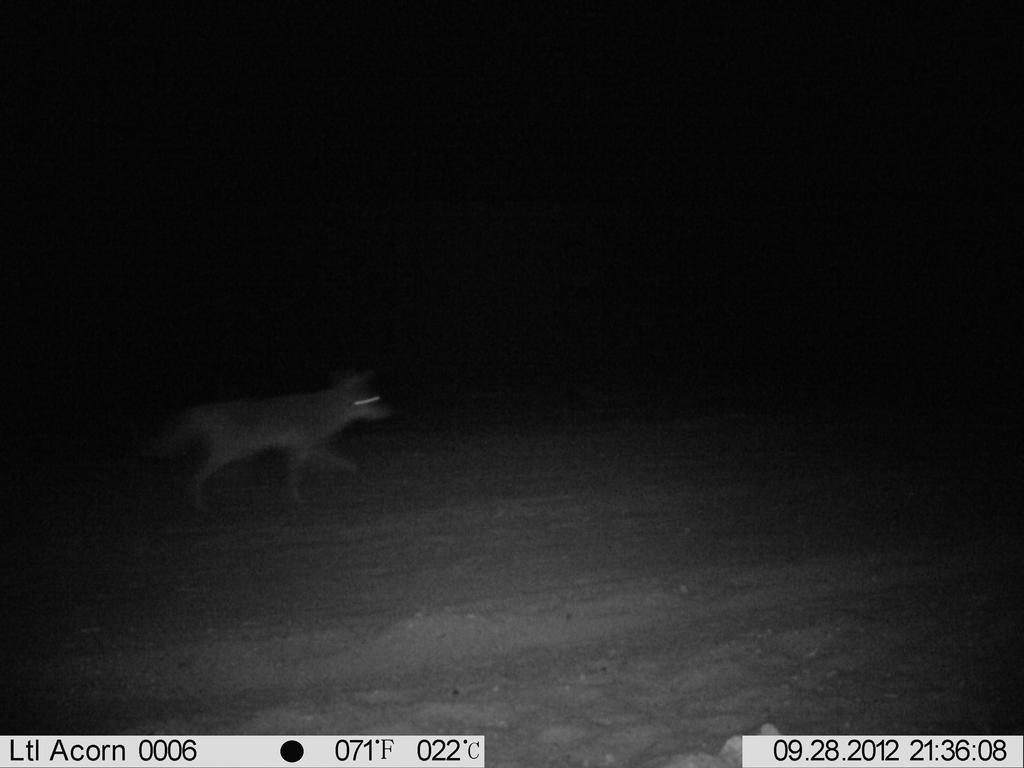coyote: (135, 361, 399, 523)
